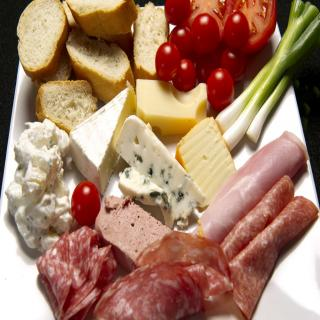Cheese: (114, 113, 206, 228), (4, 117, 70, 251), (70, 79, 136, 196), (174, 114, 237, 210), (135, 76, 207, 134)
Tomato: (187, 0, 279, 49), (66, 178, 98, 230), (190, 14, 221, 55), (207, 68, 234, 110), (223, 11, 248, 50), (157, 41, 180, 79), (172, 58, 195, 94), (169, 22, 192, 56), (196, 54, 220, 83), (221, 50, 243, 81), (164, 0, 190, 26)
